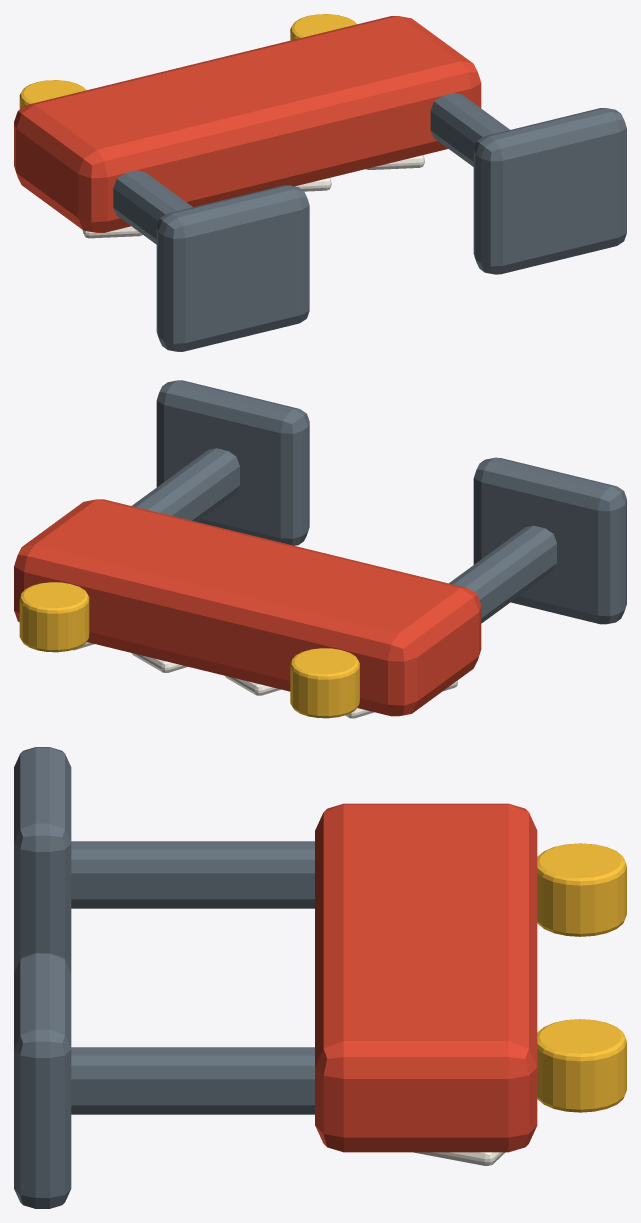
The model's file is CR_Barricade.fbx.
The picture shows the model from 3 angles, top to bottom: view 1: azimuth 30°, elevation 25°; view 2: azimuth 150°, elevation 25°; view 3: azimuth 270°, elevation 25°; orthographic projection. The views are drawn at different scales.
Parts seen in each view (by area): view 1: Red_Beam, Metal_Foot, Metal_Foot.001, Metal_Post, Metal_Post.001, Gold_WarningLight, Gold_WarningLight.001; view 2: Red_Beam, Metal_Foot, Metal_Foot.001, Metal_Post, Metal_Post.001, Gold_WarningLight.001, Gold_WarningLight; view 3: Red_Beam, Metal_Post, Metal_Post.001, Metal_Foot.001, Metal_Foot, Gold_WarningLight, Gold_WarningLight.001, White_Stripe.003.
Boxes of the visible parts, x1,y1,x2,y2 form: Red_Beam: (14, 16, 481, 232); Metal_Foot: (156, 185, 309, 351); Metal_Foot.001: (473, 108, 626, 274); Metal_Post: (113, 170, 192, 244); Metal_Post.001: (430, 93, 509, 166); Gold_WarningLight: (19, 80, 86, 109); Gold_WarningLight.001: (290, 14, 356, 40); Red_Beam: (14, 499, 481, 716); Metal_Foot: (473, 457, 626, 624); Metal_Foot.001: (156, 380, 309, 545); Metal_Post: (449, 525, 556, 623); Metal_Post.001: (132, 448, 239, 521); Gold_WarningLight.001: (19, 582, 89, 652); Gold_WarningLight: (290, 648, 359, 718); Red_Beam: (315, 803, 537, 1152); Metal_Post: (71, 841, 314, 908); Metal_Post.001: (71, 1047, 314, 1114); Metal_Foot.001: (14, 953, 71, 1208); Metal_Foot: (14, 747, 71, 972); Gold_WarningLight: (537, 843, 626, 936); Gold_WarningLight.001: (537, 1019, 626, 1112); White_Stripe.003: (413, 1152, 505, 1165).
Bounding box in the file's own units: 1.98 × 0.55 × 1.71.
